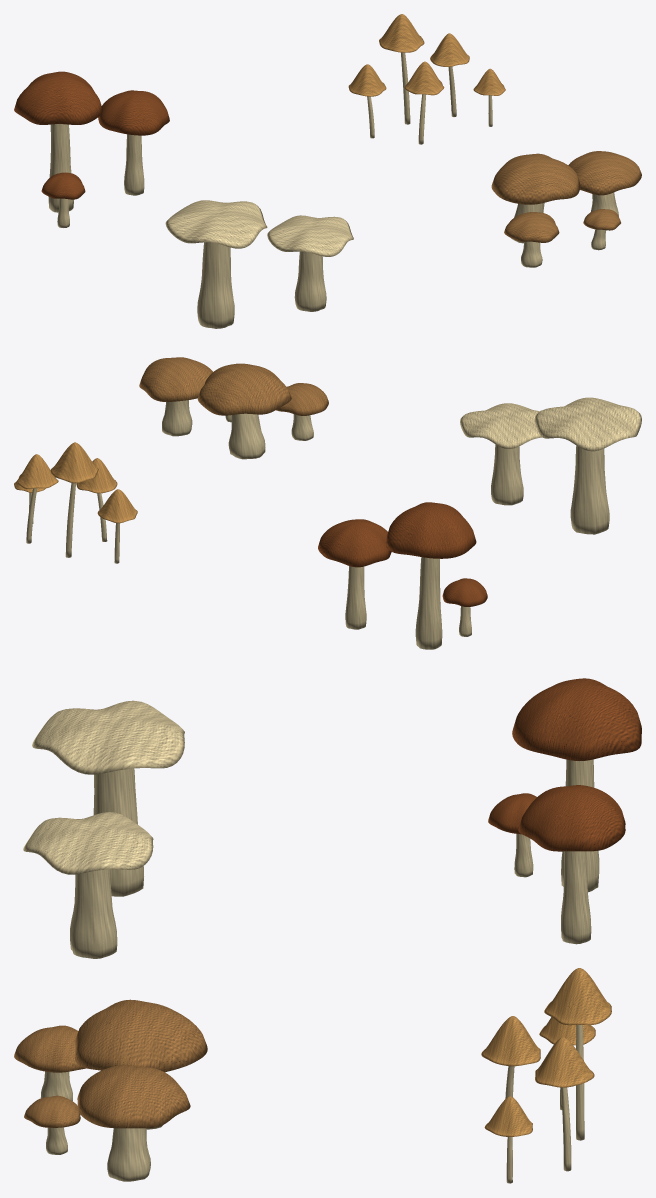
The model's file is raised_mushrooms.glb.
The picture shows the model from 3 angles, top to bottom: view 1: azimuth 30°, elevation 25°; view 2: azimuth 150°, elevation 25°; view 3: azimuth 270°, elevation 25°; orthographic projection. The views are drawn at different scales.
Visible parts, largest first — view 1: Ivory_01, Chestnut_01, Ivory_02, Ochre_01, Chestnut_02, Ochre_02, Ochre_03, Bell_01, Chestnut_03, Bell_02, Bell_05, Bell_03 (+2 smaller); view 2: Ivory_01, Chestnut_01, Ochre_01, Ivory_02, Chestnut_02, Ochre_02, Bell_01, Ochre_03, Chestnut_03, Bell_02, Bell_03, Bell_05; view 3: Ivory_01, Ivory_02, Chestnut_01, Chestnut_02, Ochre_02, Ochre_01, Bell_01, Ochre_03, Bell_02, Bell_05, Ochre_04, Chestnut_03 (+2 smaller).
Boxes of the visible parts, bbox=[...] form: Ivory_01: bbox=[165, 200, 267, 328]; Chestnut_01: bbox=[14, 71, 102, 212]; Ivory_02: bbox=[267, 215, 353, 311]; Ochre_01: bbox=[491, 153, 579, 243]; Chestnut_02: bbox=[98, 90, 169, 195]; Ochre_02: bbox=[568, 151, 641, 216]; Ochre_03: bbox=[504, 212, 559, 267]; Bell_01: bbox=[379, 14, 424, 124]; Chestnut_03: bbox=[41, 172, 85, 227]; Bell_02: bbox=[430, 33, 469, 116]; Bell_05: bbox=[404, 61, 444, 144]; Bell_03: bbox=[348, 64, 386, 138]; Ivory_01: bbox=[534, 397, 641, 534]; Chestnut_01: bbox=[385, 502, 476, 649]; Ochre_01: bbox=[197, 363, 291, 459]; Ivory_02: bbox=[460, 403, 541, 505]; Chestnut_02: bbox=[318, 519, 391, 629]; Ochre_02: bbox=[139, 357, 212, 436]; Bell_01: bbox=[50, 442, 98, 557]; Ochre_03: bbox=[276, 383, 328, 440]; Chestnut_03: bbox=[442, 578, 487, 636]; Bell_02: bbox=[16, 454, 58, 543]; Bell_03: bbox=[97, 489, 137, 563]; Bell_05: bbox=[76, 458, 117, 541]; Ivory_01: bbox=[32, 700, 184, 896]; Ivory_02: bbox=[23, 812, 153, 958]; Chestnut_01: bbox=[512, 678, 641, 892]; Chestnut_02: bbox=[518, 785, 625, 944]; Ochre_02: bbox=[77, 1064, 190, 1181]; Ochre_01: bbox=[74, 999, 207, 1129]; Bell_01: bbox=[544, 968, 611, 1140]; Ochre_03: bbox=[14, 1025, 85, 1100]; Bell_02: bbox=[535, 1037, 594, 1171]; Bell_05: bbox=[481, 1016, 540, 1098]; Ochre_04: bbox=[24, 1095, 80, 1154]; Chestnut_03: bbox=[488, 793, 536, 877].
Size of the model in its own units: 0.5754 by 0.155 by 0.4452.
6 materials, 6 textured.
